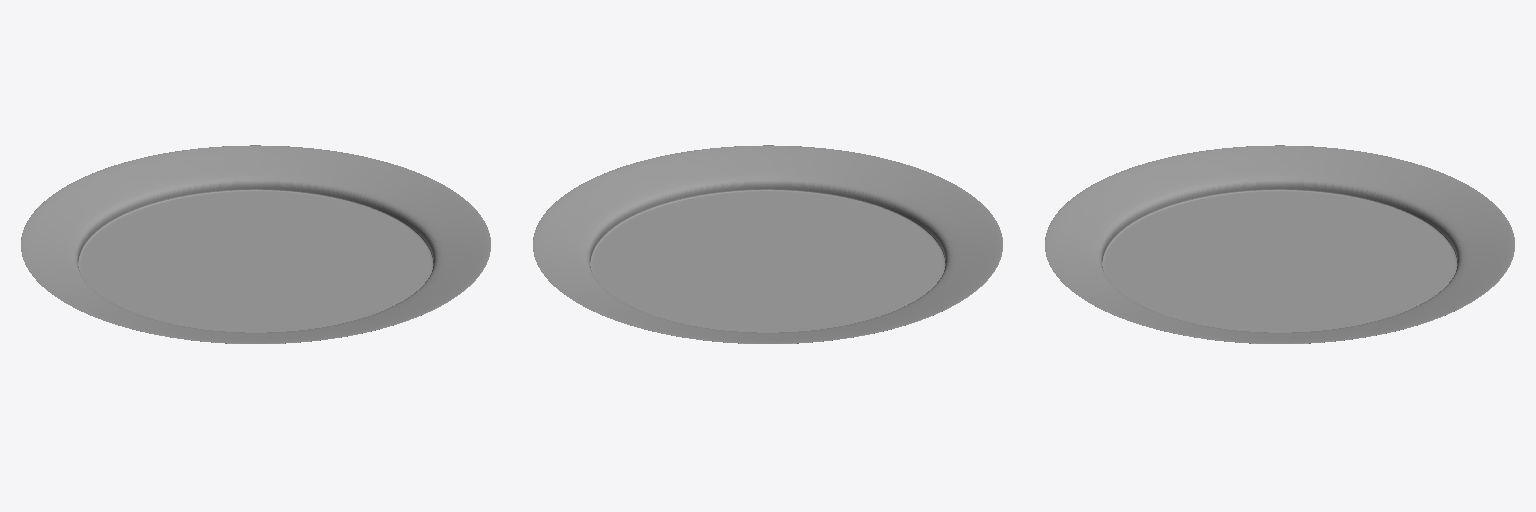
The model's file is plate.obj.
The picture shows the model from 3 angles: view 1: azimuth 30°, elevation 25°; view 2: azimuth 150°, elevation 25°; view 3: azimuth 270°, elevation 25°; orthographic projection.
Visible parts, largest first — view 1: Plate_Circle; view 2: Plate_Circle; view 3: Plate_Circle.
Part boxes in pixels (left/top/right/bottom): Plate_Circle: left=21, top=145, right=490, bottom=343; Plate_Circle: left=533, top=145, right=1002, bottom=343; Plate_Circle: left=1045, top=145, right=1514, bottom=343.
Bounding box in the file's own units: 2.59 × 0.1365 × 2.59.